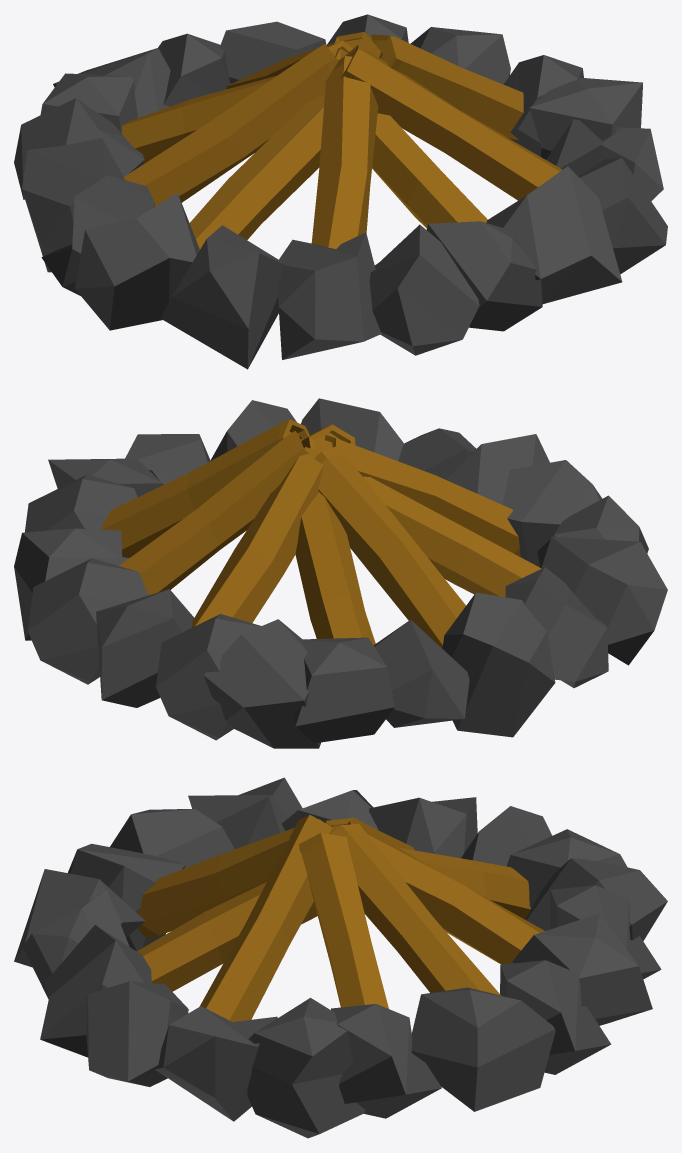
The model's file is Campfire 1.fbx.
3 views of the same model, one above another, from view 1: azimuth 30°, elevation 25°; view 2: azimuth 150°, elevation 25°; view 3: azimuth 270°, elevation 25° (orthographic).
Parts seen in each view (by area): view 1: Campfire; view 2: Campfire; view 3: Campfire.
Part boxes in pixels (box(x1,y1,x2,y2)): Campfire: box(14, 14, 667, 369); Campfire: box(14, 398, 667, 748); Campfire: box(14, 777, 667, 1138).
Size of the model in its own units: 254 by 88.71 by 246.
